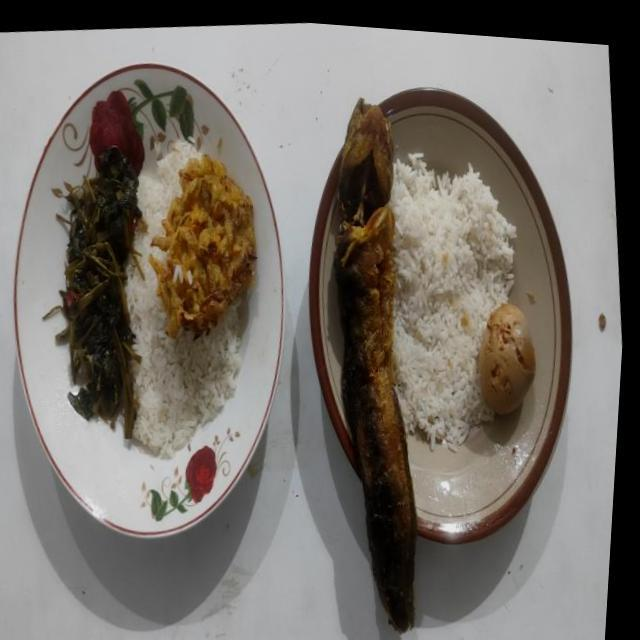nasi_putih: (389, 153, 516, 451), (125, 140, 242, 458)
tumis_kangkung: (56, 145, 141, 438)
